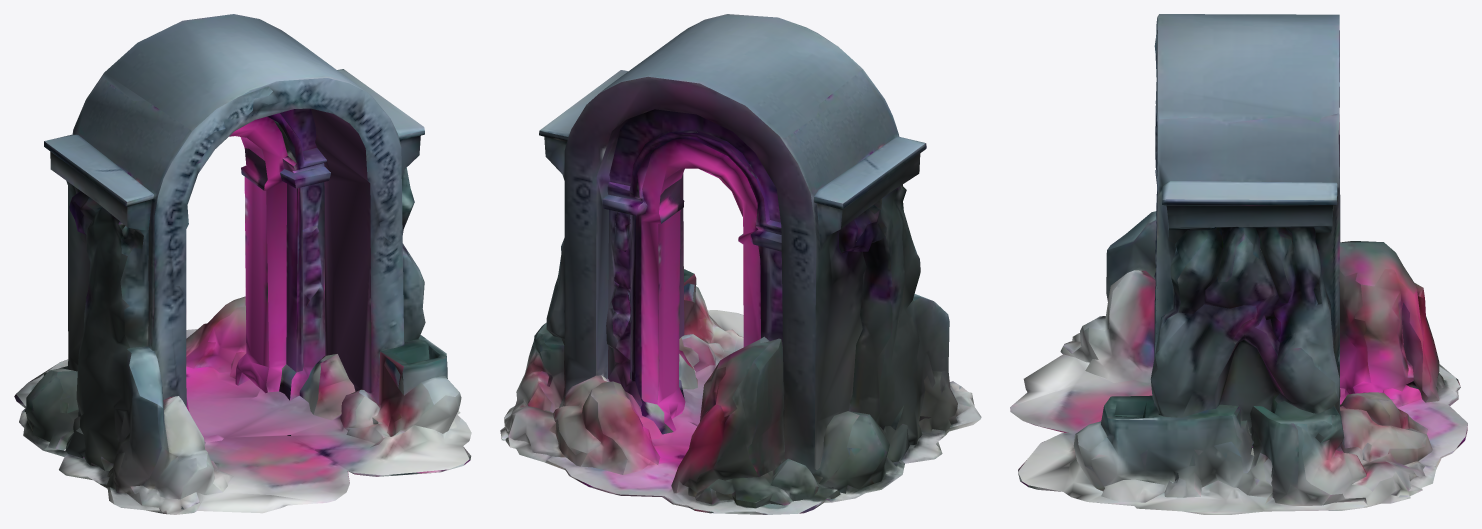
Rendered from yggdrasil-hvergelmir-depth-arch-2.collider.glb.
3 renders of one model, left to right at view 1: azimuth 30°, elevation 25°; view 2: azimuth 150°, elevation 25°; view 3: azimuth 270°, elevation 25°, orthographic. The views are drawn at different scales.
Parts seen in each view (by area): view 1: temp_mesh.ply; view 2: temp_mesh.ply; view 3: temp_mesh.ply.
Boxes of the visible parts, left/top/right/bottom form: temp_mesh.ply: left=14, top=14, right=471, bottom=514; temp_mesh.ply: left=500, top=14, right=981, bottom=514; temp_mesh.ply: left=1010, top=14, right=1467, bottom=514.
Size of the model in its own units: 1.96 by 1.85 by 1.97.
Materials: 1 (1 with a texture image).
